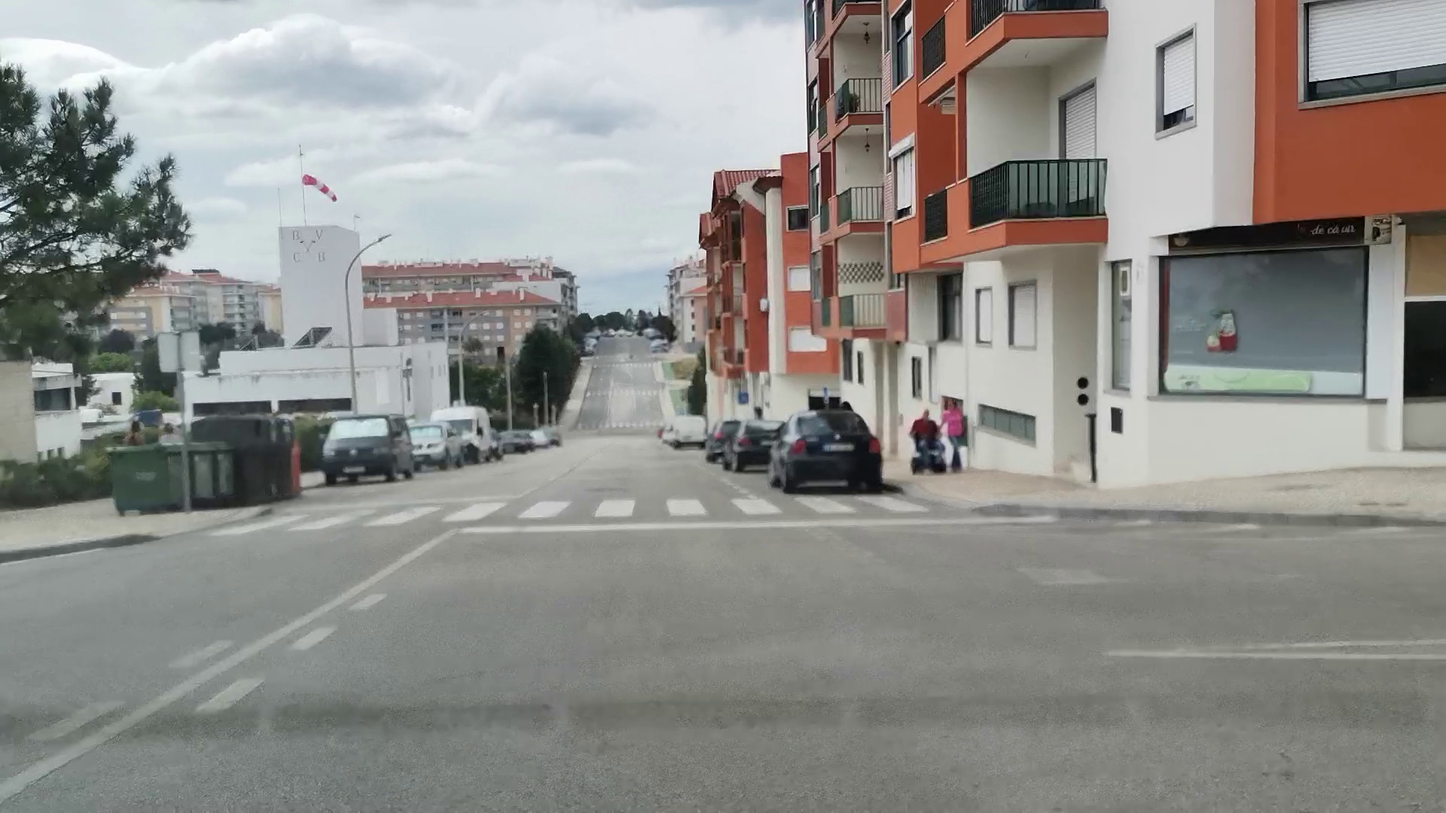Stairs: (193, 493, 918, 537)
